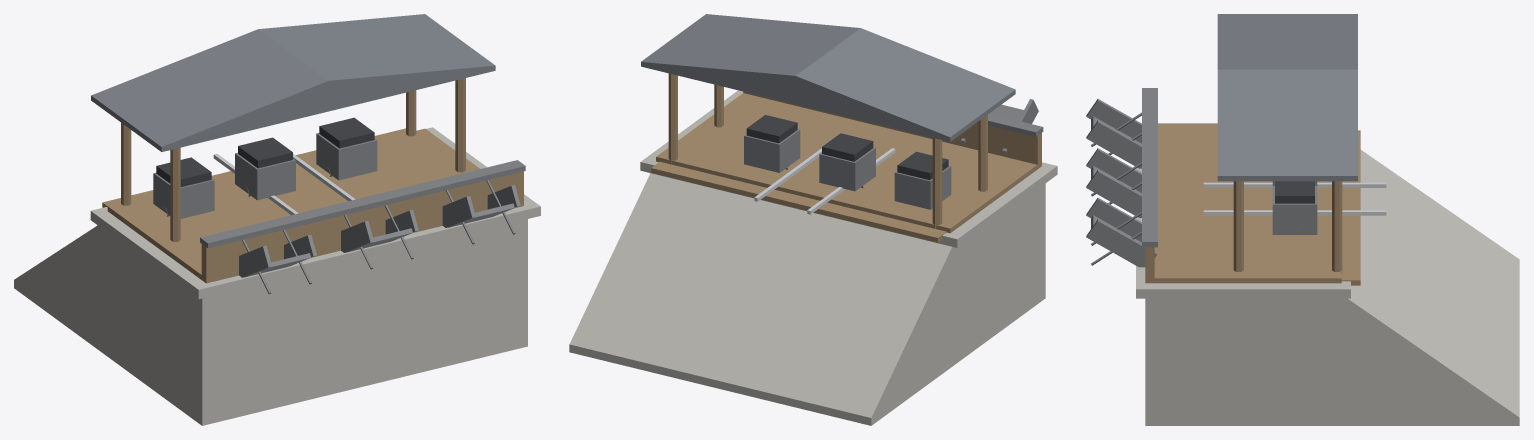
Rendered from steam-era-railway-and-rolling-stock-coaling-stage-dd222607.glb.
3 views of the same model, side by side, from view 1: azimuth 30°, elevation 25°; view 2: azimuth 150°, elevation 25°; view 3: azimuth 270°, elevation 25° (orthographic). The views are drawn at different scales.
Parts seen in each view (by area): view 1: coaling-stage; view 2: coaling-stage; view 3: coaling-stage.
Part boxes in pixels (x1=…): coaling-stage: x1=14, y1=14, x2=540, y2=425; coaling-stage: x1=569, y1=14, x2=1057, y2=425; coaling-stage: x1=1086, y1=14, x2=1519, y2=425.
Bounding box in the file's own units: 8.4 × 6.54 × 9.26.
